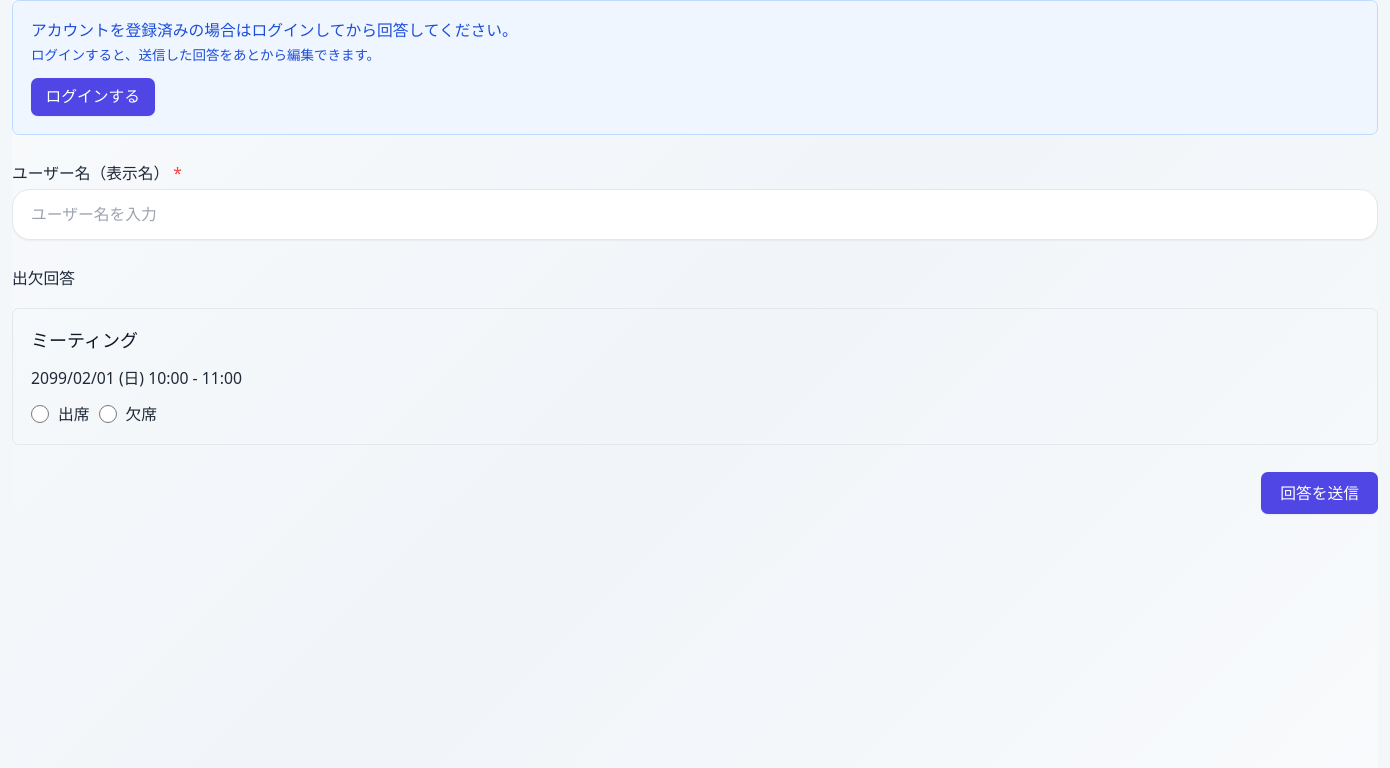
Test: SurveyResponseForm › errors that logging in would resolve › should not offer a login link for unrelated errors
The width and height of the screenshot is (1390, 768).
Type "ゲスト" into the field labelled "ユーザー名（表示名） *" at (695,214), box top-left (12, 188), bottom-right (1378, 240)
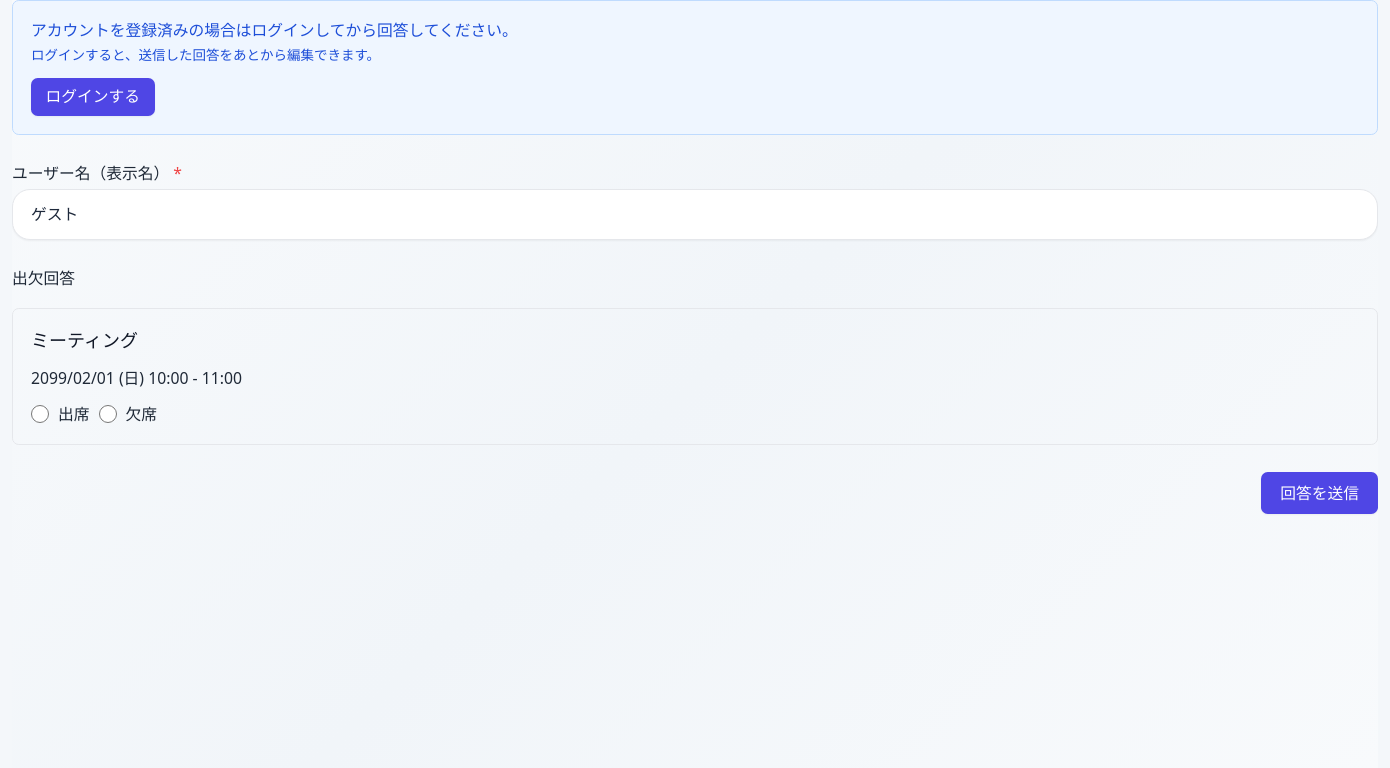
Click the button "回答を送信" at (1320,493), box top-left (1261, 472), bottom-right (1378, 514)
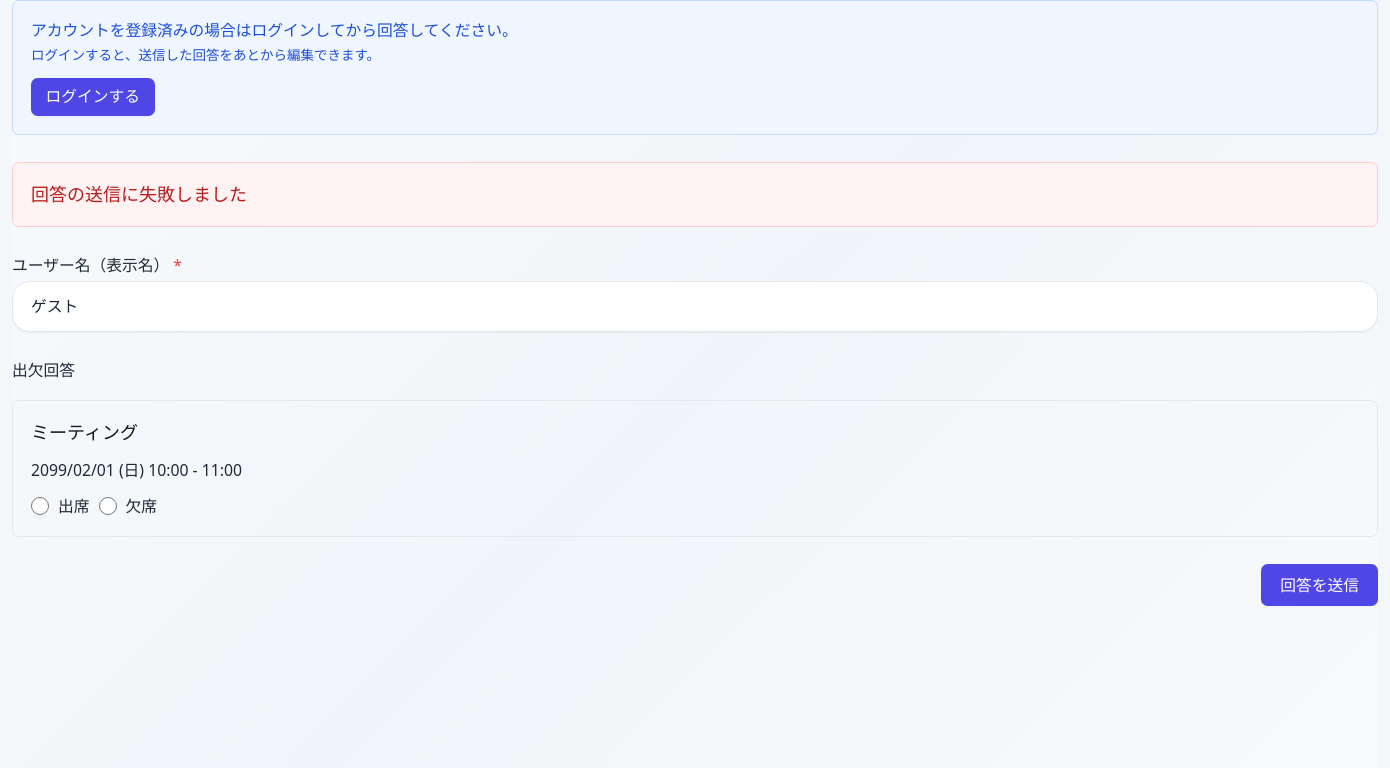
Check: the text "回答の送信に失敗しました" is shown, box top-left (12, 162), bottom-right (1378, 226)
